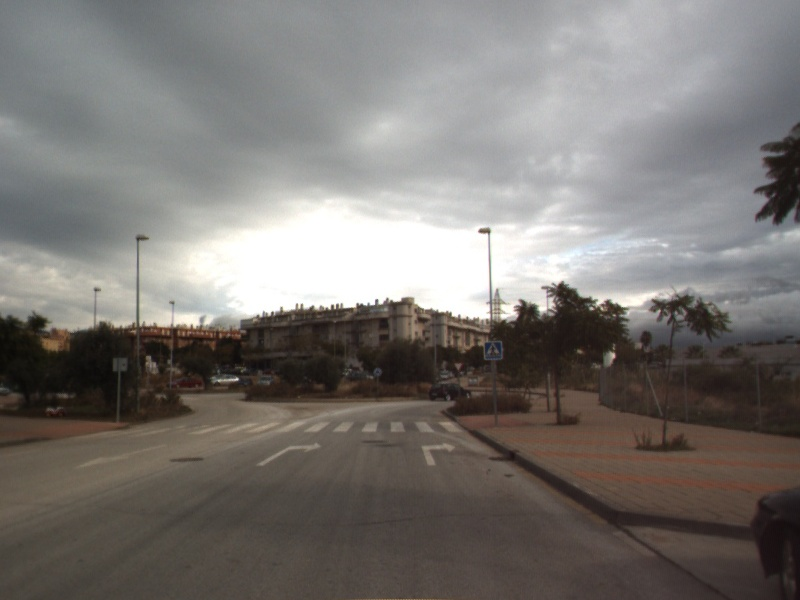RIGHT: (254, 440, 324, 468), (419, 441, 458, 467)
